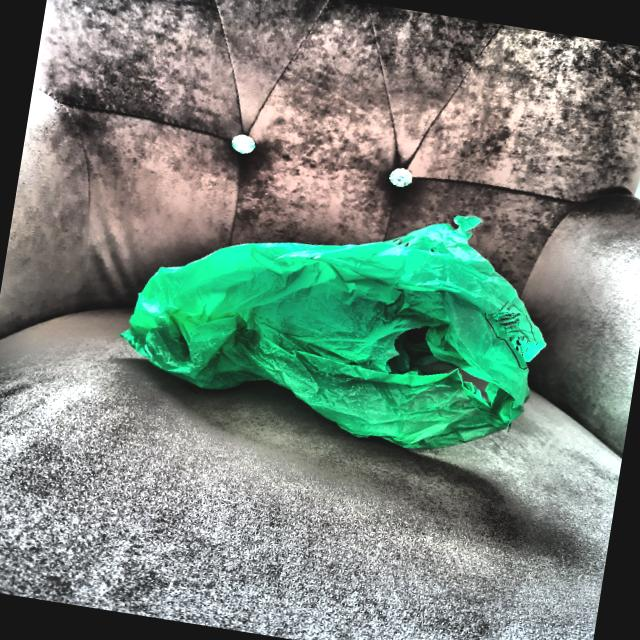plastic bag: (108, 162, 570, 472)
